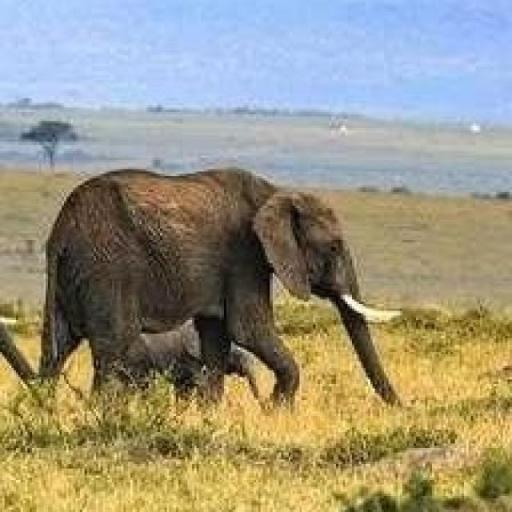Elephant: (0, 162, 405, 416)
